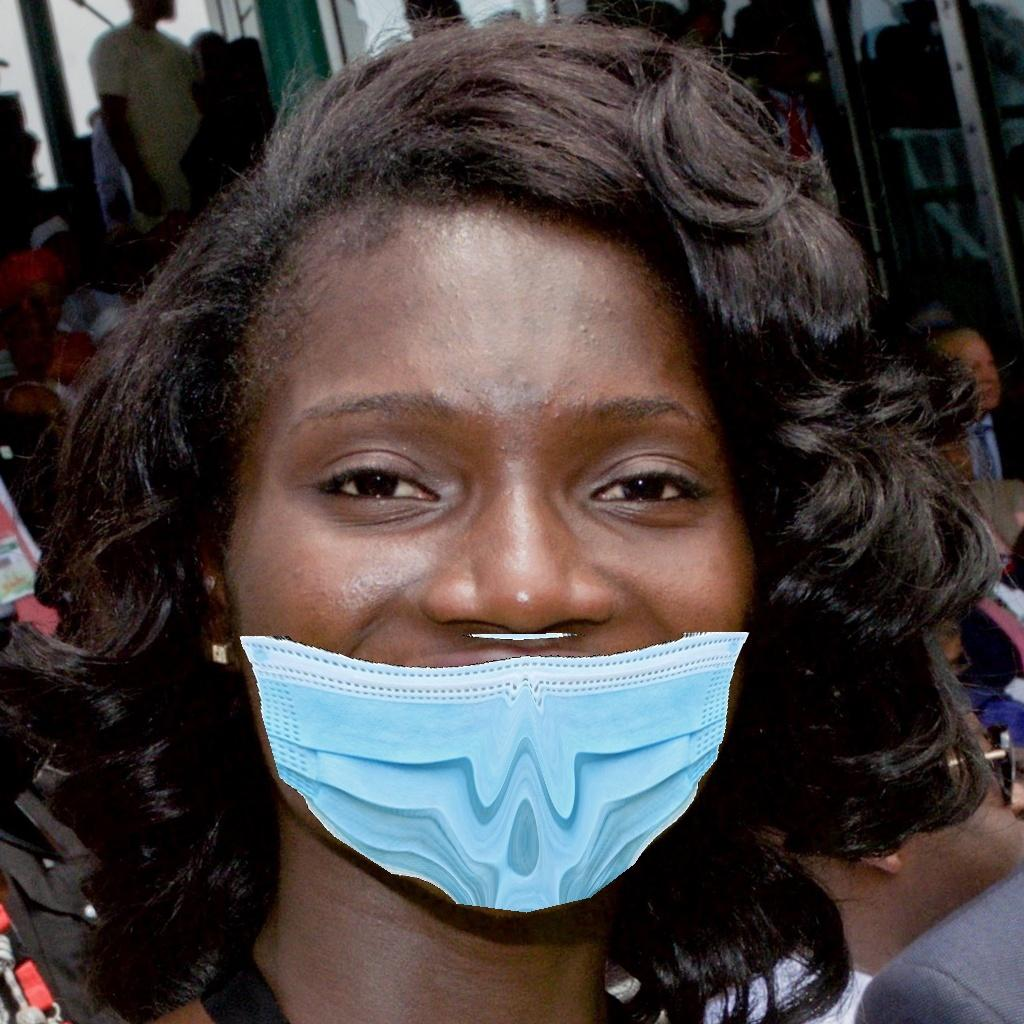Máscara Incorreta: (201, 333, 773, 875)
